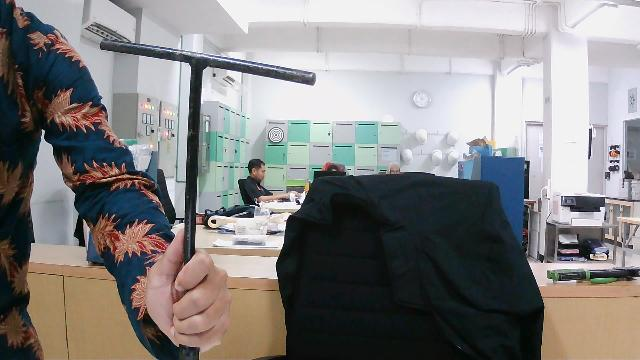kunci_t: (91, 32, 325, 360)
